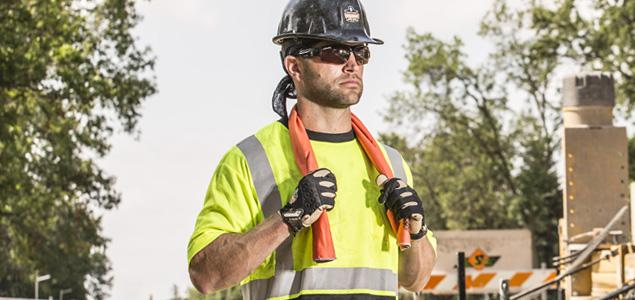helmet: (273, 1, 386, 48)
